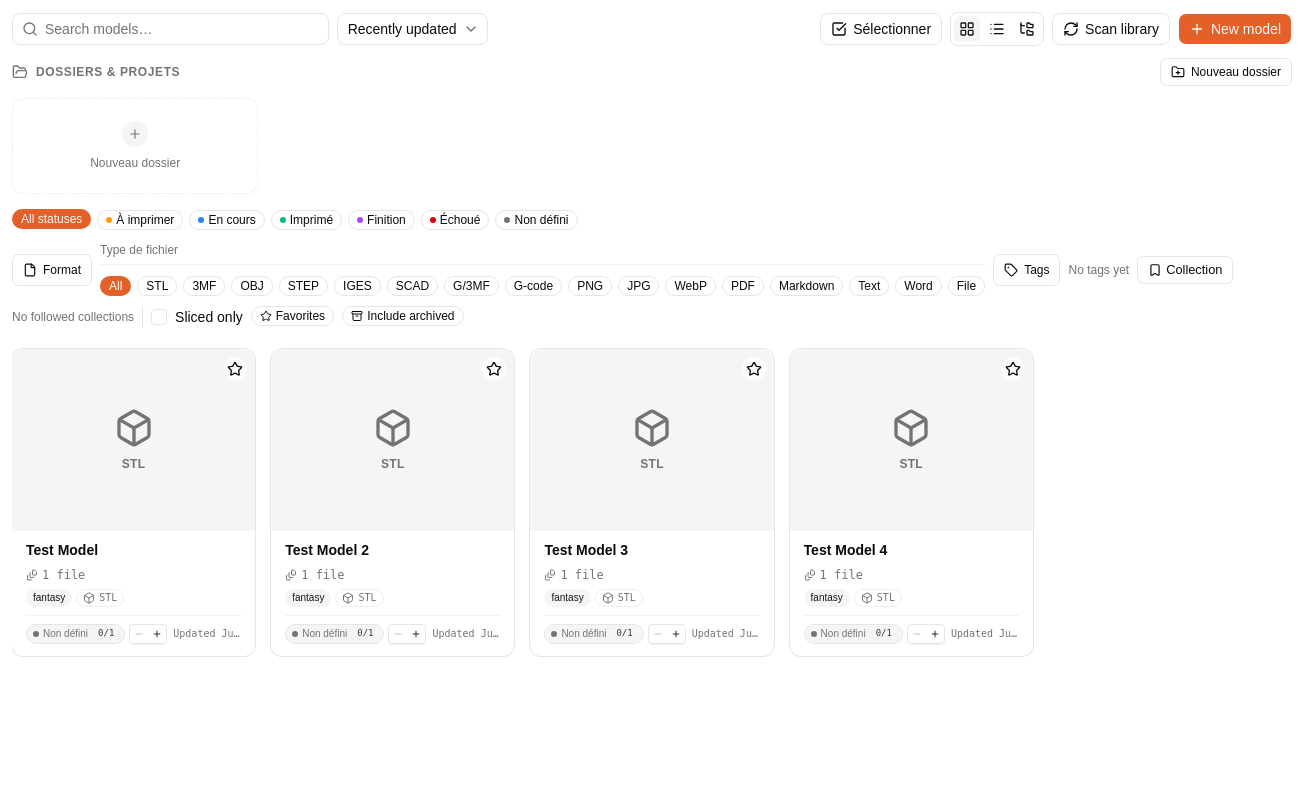
Test case: LibraryPage › shift-clicking two cards selects the inclusive range between them, auto-entering select mode
The width and height of the screenshot is (1304, 812).
Expected: the heading "Test Model" is shown, [26, 542, 98, 558]
Click the link "Test Model": (134, 502) [12, 349, 255, 656]
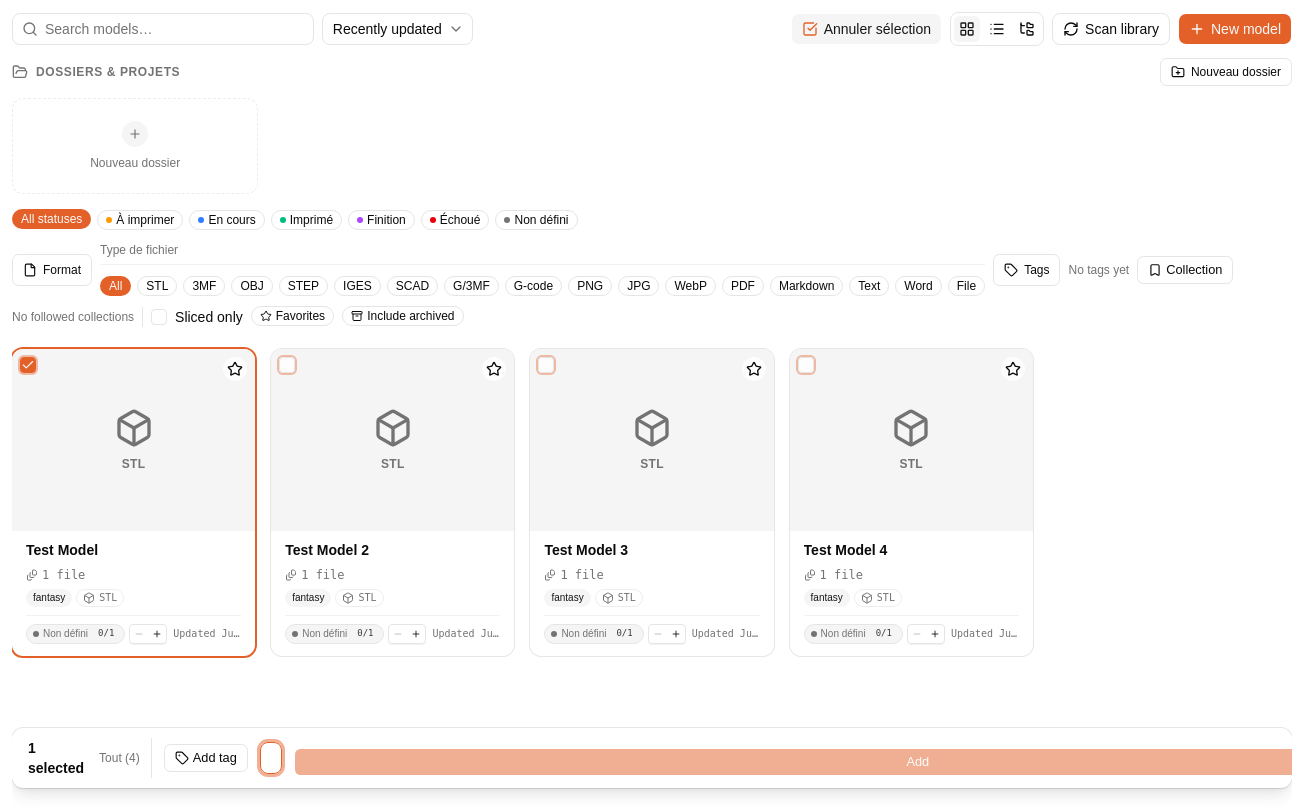
Expected: the text "1 selected" is shown, [28, 738, 84, 778]
Click the link "Test Model 4": (911, 502) [790, 349, 1033, 656]
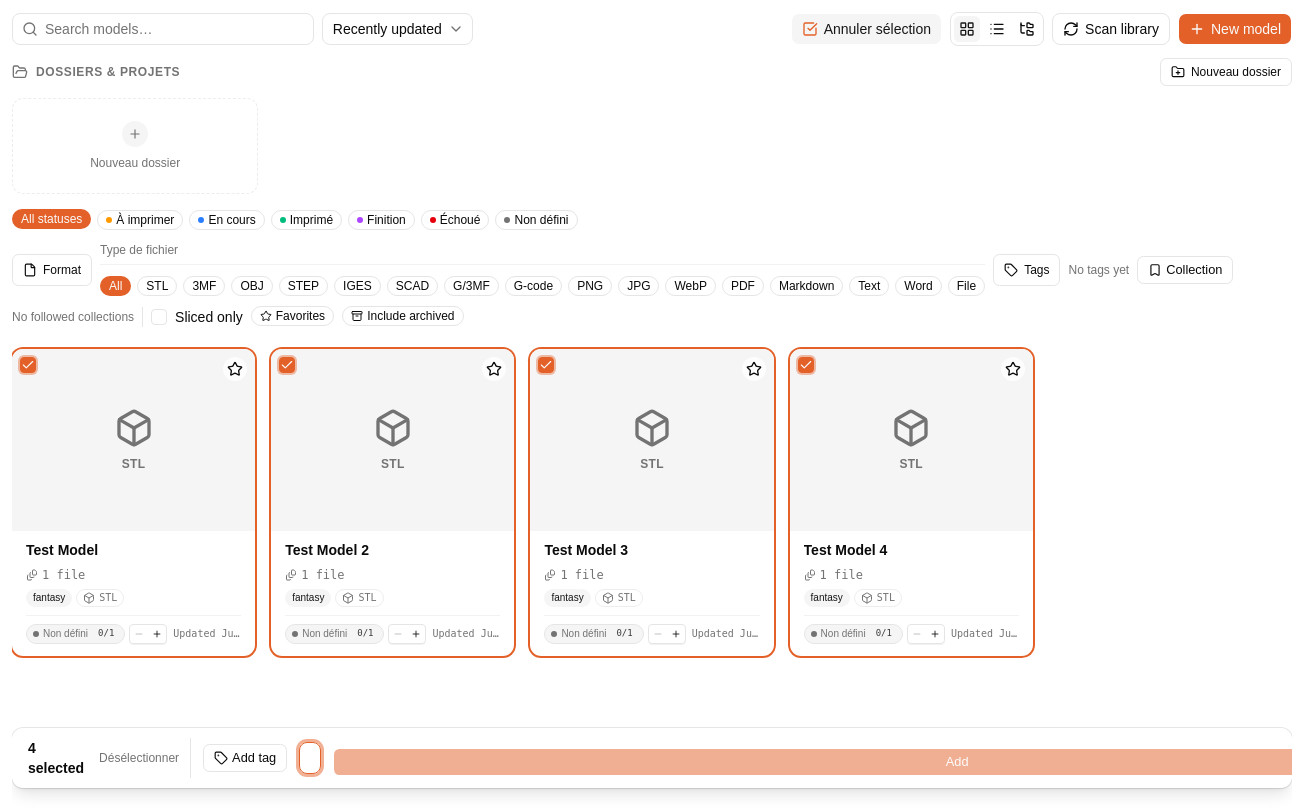
Expected: the text "4 selected" is shown, [28, 738, 84, 778]
